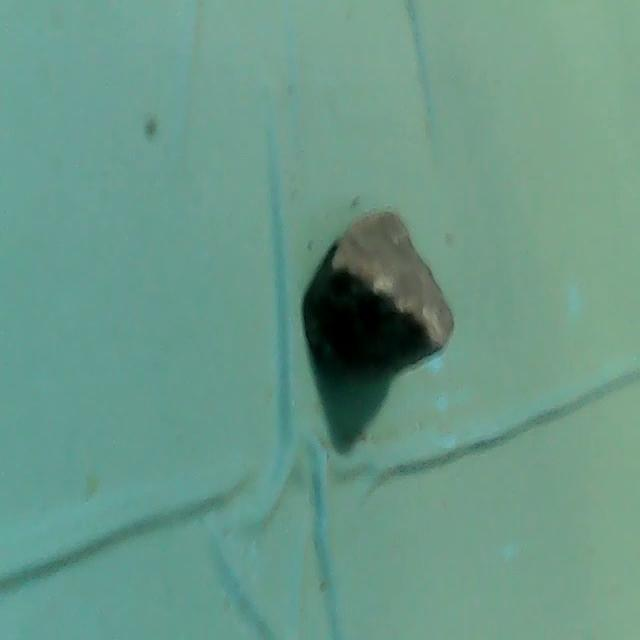rock: (303, 198, 464, 382)
